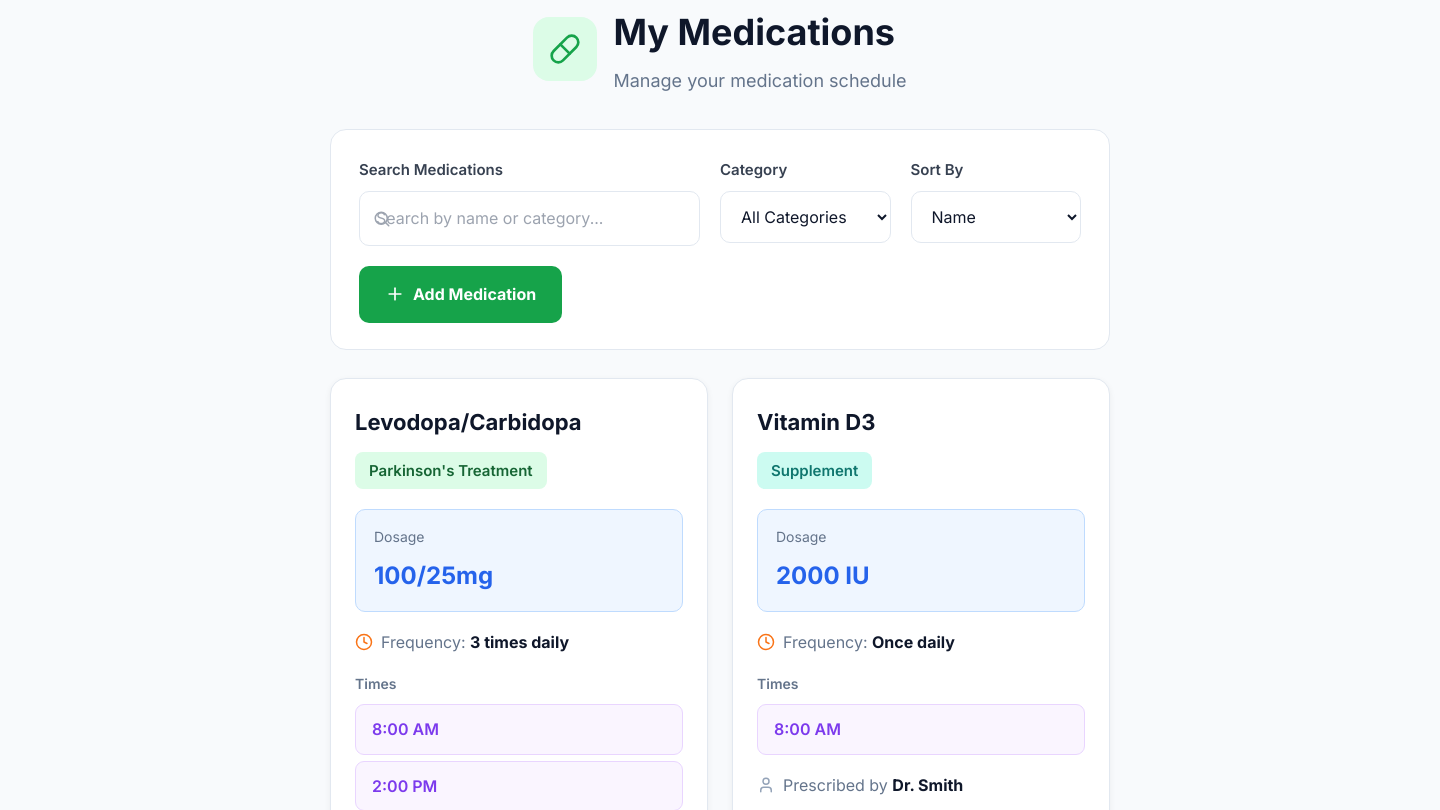
Test: MedicationsPage › opens add medication modal
The width and height of the screenshot is (1440, 810).
Click the button "Add Medication". click: (461, 294)
box: [359,266,562,323]
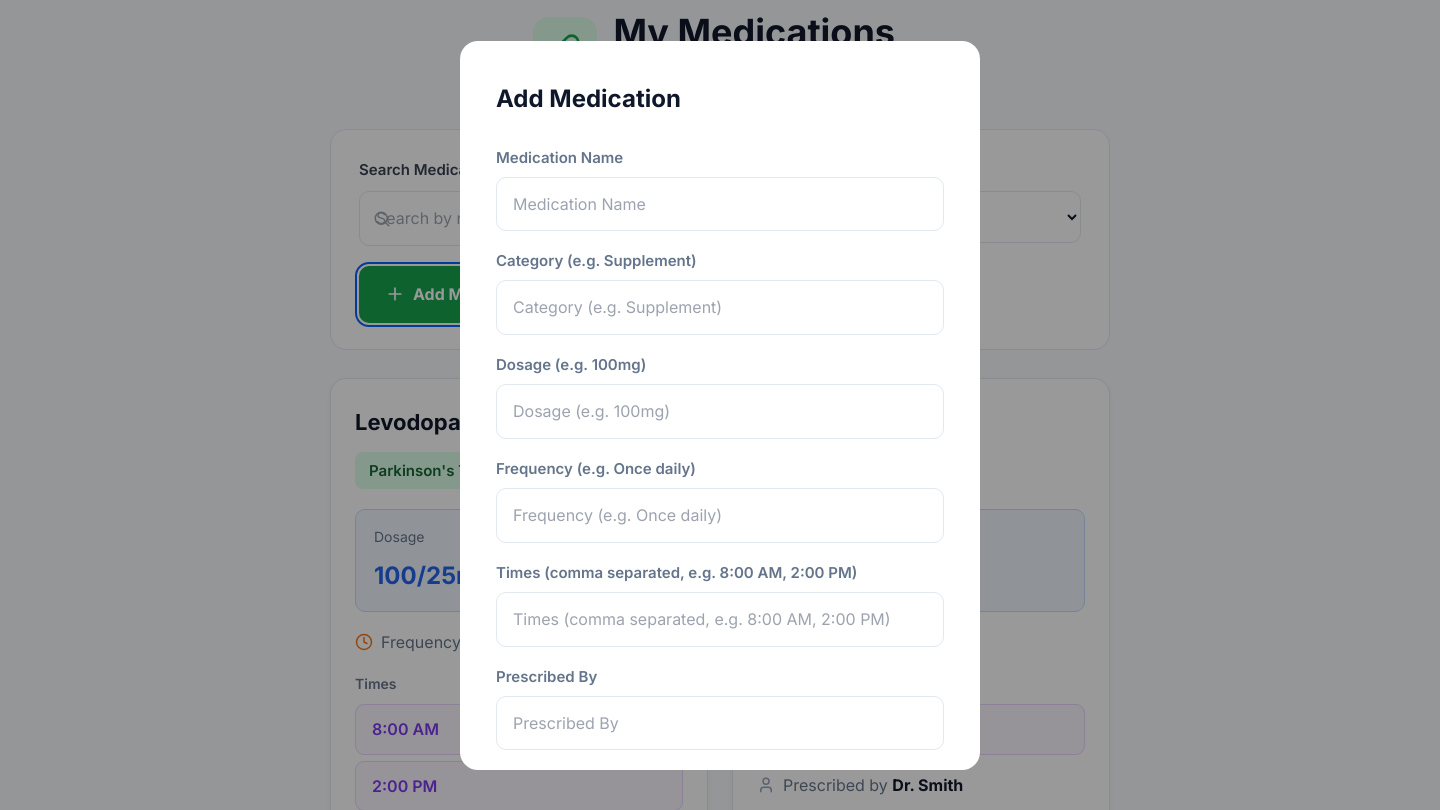
Check: the heading "Add Medication" is shown, box [496,84,681,112]
Check: the field with placeholder "Medication Name" is shown, box [496,177,944,232]
Check: the field with placeholder "Category (e.g. Supplement)" is shown, box [496,280,944,335]
